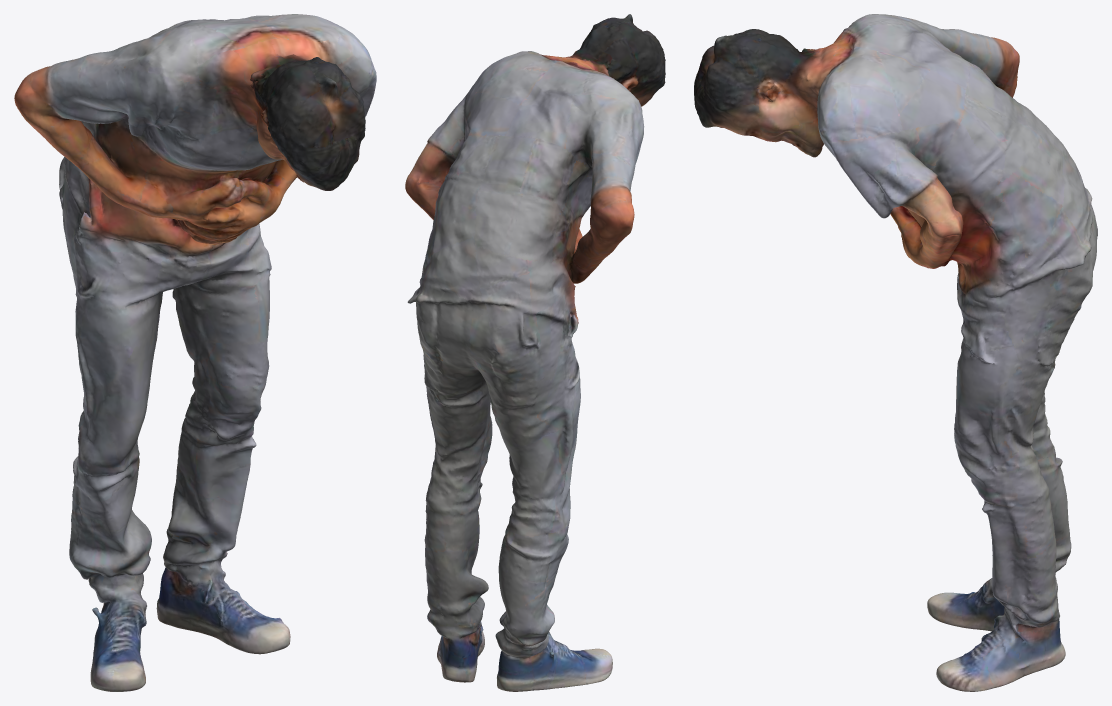
The model's file is Sintoma2Appendix.glb.
3 views of the same model, side by side, from view 1: azimuth 30°, elevation 25°; view 2: azimuth 150°, elevation 25°; view 3: azimuth 270°, elevation 25° (orthographic). The views are drawn at different scales.
Visible parts, largest first — view 1: Sintoma2Appendix; view 2: Sintoma2Appendix; view 3: Sintoma2Appendix.
Boxes of the visible parts, <box> form: Sintoma2Appendix: <box>14,14,376,691</box>; Sintoma2Appendix: <box>405,14,665,691</box>; Sintoma2Appendix: <box>694,14,1097,691</box>.
Size of the model in its own units: 0.9175 by 1.99 by 1.18.
1 material, 1 textured.
